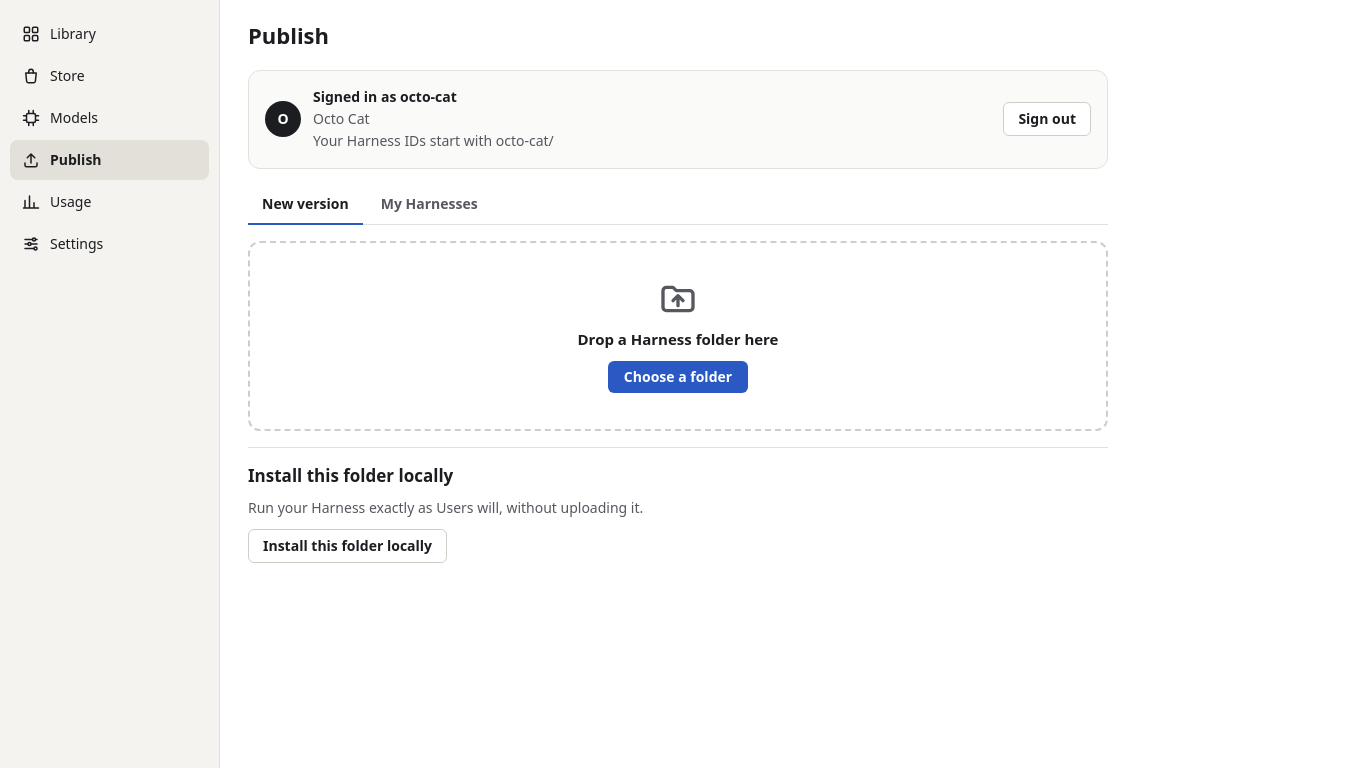
Test: Publish screen sign-in › Sign out signs out and shows the sign-in card again
The width and height of the screenshot is (1366, 768).
Click the button "Sign out" at (1047, 119), box [1003,102,1091,136]
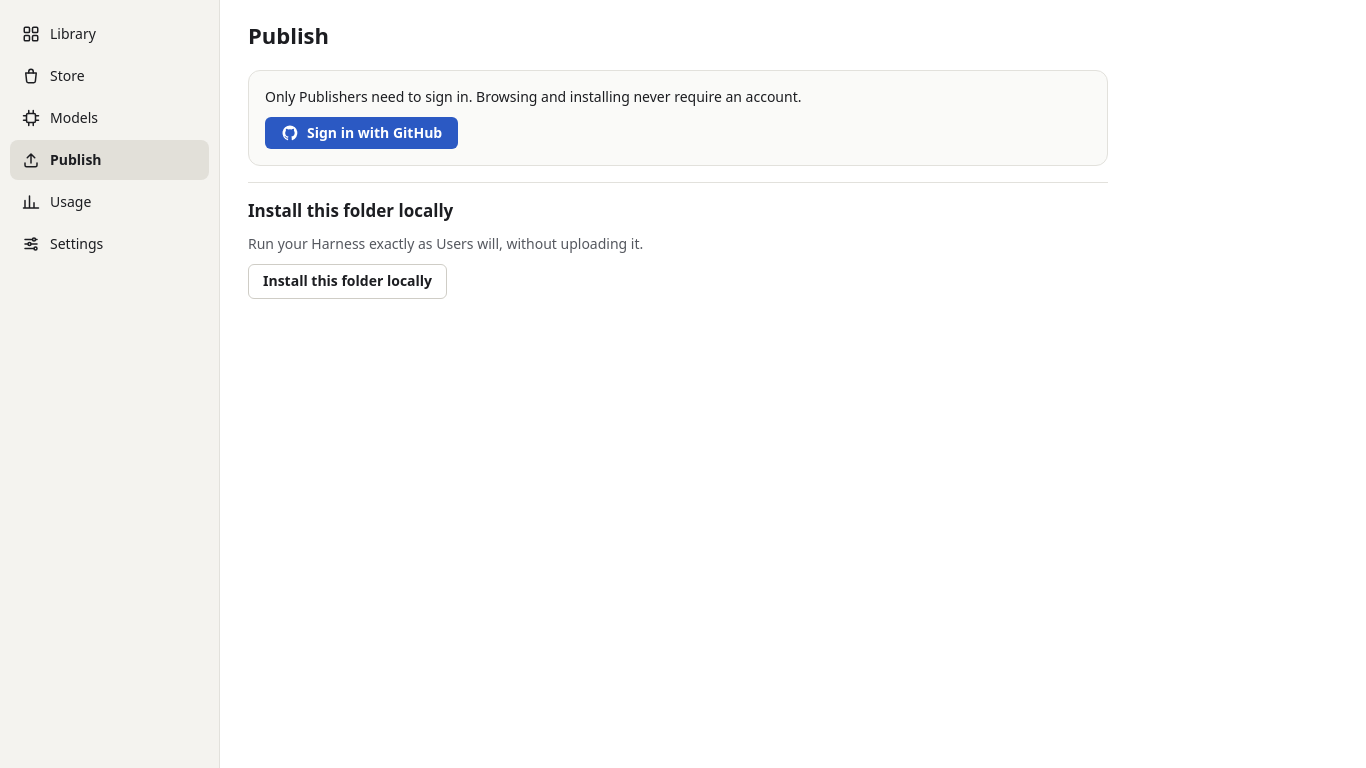
Result: the button "Sign in with GitHub" is shown at [265,117,458,150]
